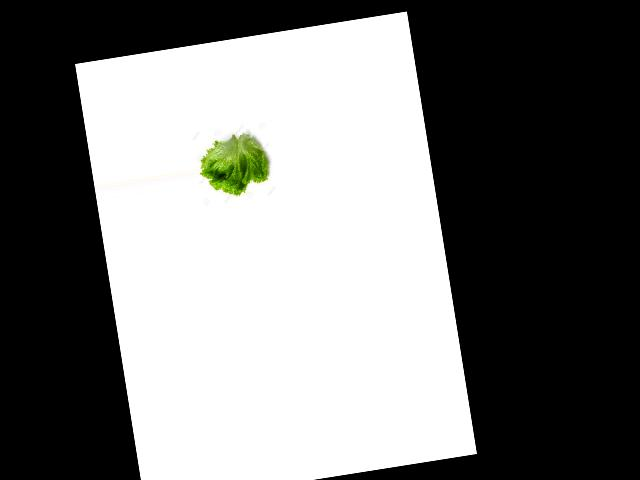lettuce: (193, 127, 277, 198)
